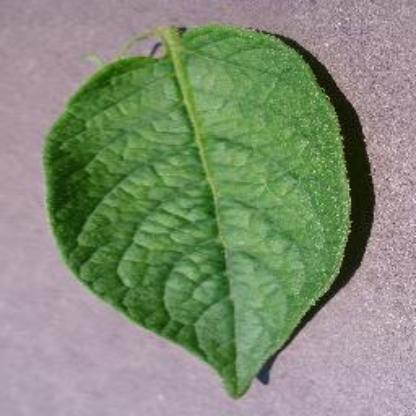Healthy-plant: (34, 10, 362, 404)
